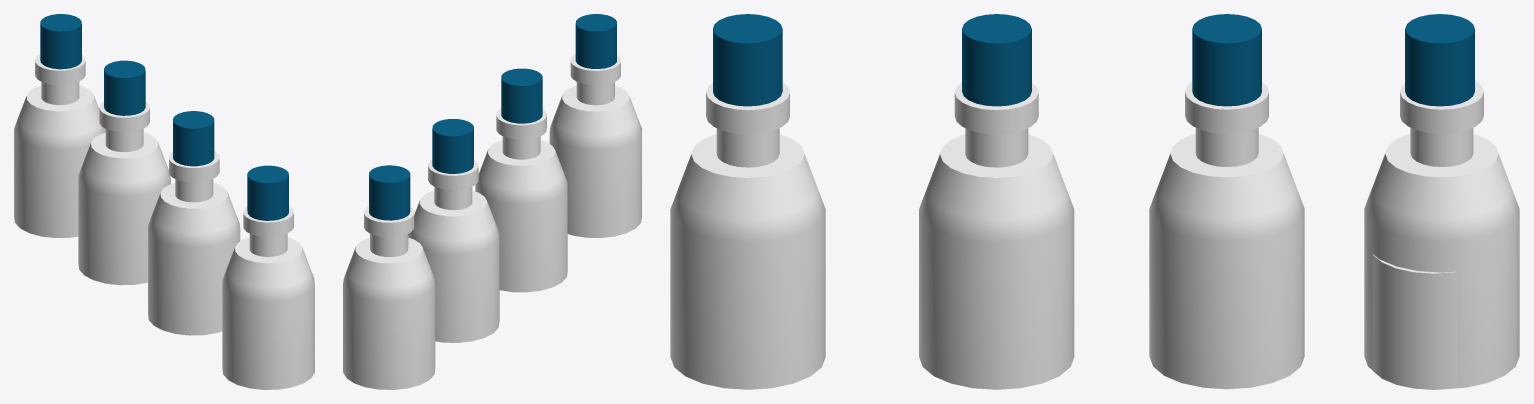
The model's file is Regeant_Bottles.fbx.
3 renders of one model, left to right at view 1: azimuth 30°, elevation 25°; view 2: azimuth 150°, elevation 25°; view 3: azimuth 270°, elevation 25°, orthographic. The views are drawn at different scales.
Parts seen in each view (by area): view 1: pCylinder17, pCylinder11, pCylinder12, pCylinder21, pCylinder9, pCylinder23, pCylinder24, pCylinder22; view 2: pCylinder21, pCylinder17, pCylinder11, pCylinder12, pCylinder22, pCylinder23, pCylinder24, pCylinder9; view 3: pCylinder11, pCylinder17, pCylinder12, pCylinder21, pCylinder19, pCylinder22, pCylinder23, pCylinder9, pCylinder24.
Boxes of the visible parts, box(x1,y1,x2,y2) form: pCylinder17: box(222, 205, 314, 389); pCylinder11: box(148, 151, 240, 335); pCylinder12: box(78, 101, 170, 285); pCylinder21: box(14, 54, 105, 237); pCylinder9: box(104, 60, 145, 115); pCylinder23: box(173, 111, 214, 166); pCylinder24: box(247, 165, 288, 220); pCylinder22: box(40, 14, 81, 69); pCylinder21: box(343, 206, 435, 389); pCylinder17: box(549, 54, 641, 237); pCylinder11: box(475, 108, 567, 292); pCylinder12: box(408, 159, 499, 342); pCylinder22: box(369, 165, 410, 220); pCylinder23: box(501, 68, 542, 123); pCylinder24: box(575, 14, 616, 68); pCylinder9: box(432, 119, 473, 173); pCylinder11: box(919, 82, 1074, 389); pCylinder17: box(670, 82, 825, 389); pCylinder12: box(1149, 82, 1304, 389); pCylinder21: box(1364, 80, 1519, 388); pCylinder19: box(1372, 254, 1457, 389); pCylinder22: box(1405, 14, 1474, 106); pCylinder23: box(962, 14, 1031, 106); pCylinder9: box(1192, 14, 1261, 106); pCylinder24: box(713, 14, 782, 106).
Bounding box in the file's own units: 2.03 × 4.66 × 10.93.
